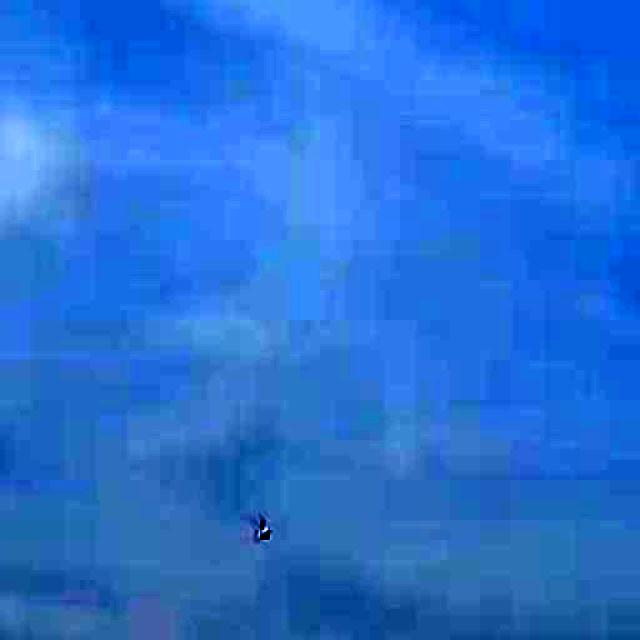drone: (244, 499, 284, 555)
